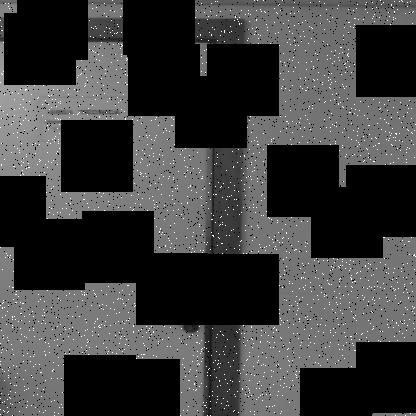Porte: (0, 17, 248, 415)
